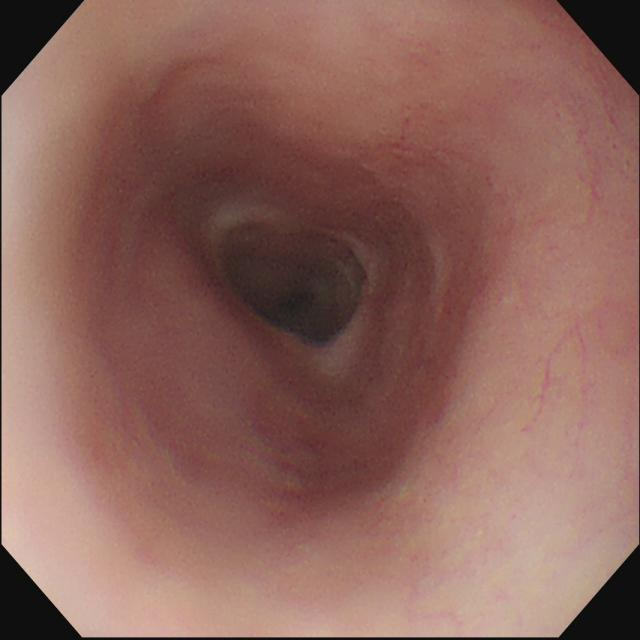E: (234, 243, 363, 337)
